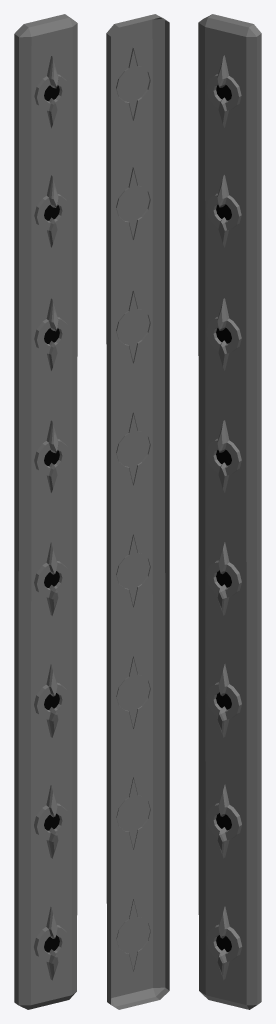
The model's file is LGEProjectileStoneTrap.fbx.
3 renders of one model, left to right at view 1: azimuth 30°, elevation 25°; view 2: azimuth 210°, elevation 25°; view 3: azimuth 330°, elevation 25°, orthographic.
Visible parts, largest first — view 1: LGEProjectileStoneTrap; view 2: LGEProjectileStoneTrap; view 3: LGEProjectileStoneTrap.
Boxes of the visible parts, left/top/right/bottom form: LGEProjectileStoneTrap: left=14, top=14, right=77, bottom=1009; LGEProjectileStoneTrap: left=106, top=14, right=169, bottom=1009; LGEProjectileStoneTrap: left=198, top=14, right=261, bottom=1009.
Size of the model in its own units: 15.07 by 242 by 6.
